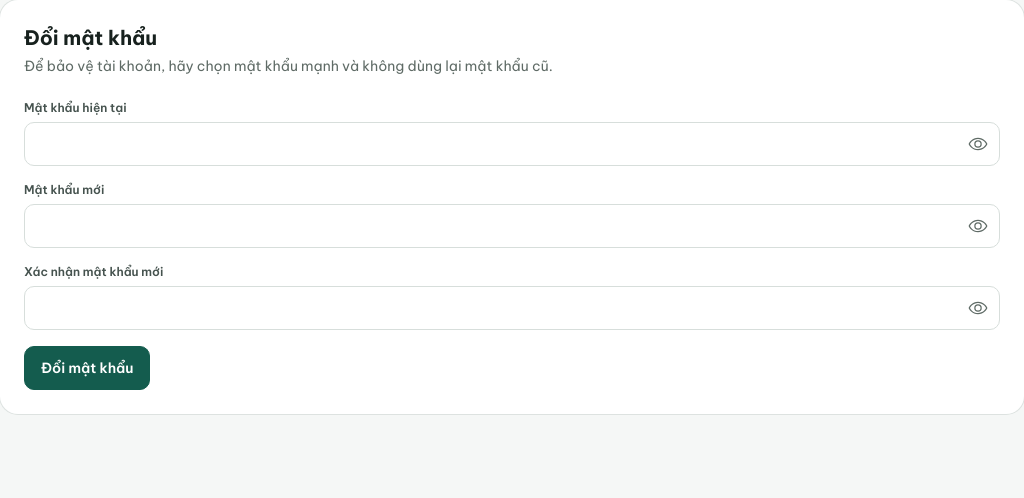
ChangePasswordForm › gọi API đổi mật khẩu và báo thành công khi dữ liệu hợp lệ
The image size is (1024, 498).
Type "MatKhauCu@1" into the password field labelled "Mật khẩu hiện tại" at (512, 144), box x1=24 y1=122 x2=1000 y2=166
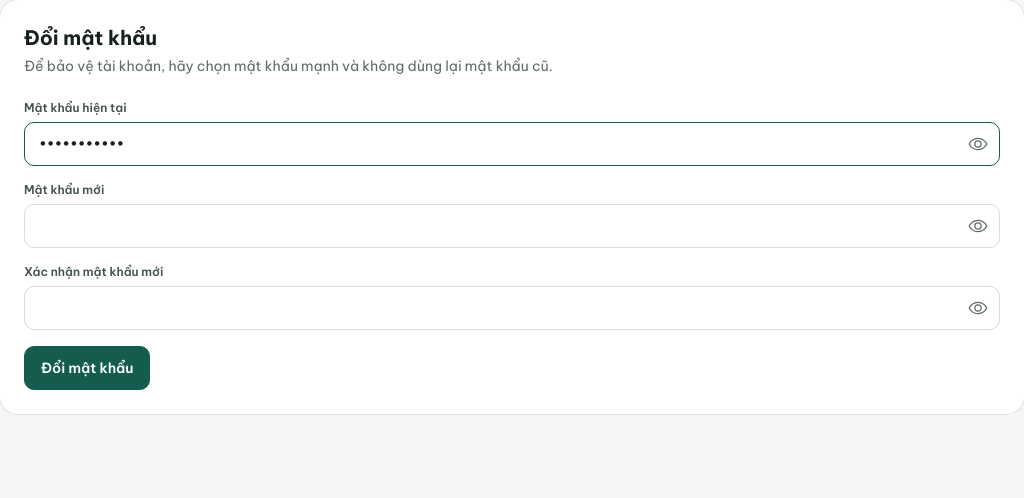
Type "MatKhauMoi@2" into the password field labelled "Mật khẩu mới" at (512, 226), box x1=24 y1=204 x2=1000 y2=248
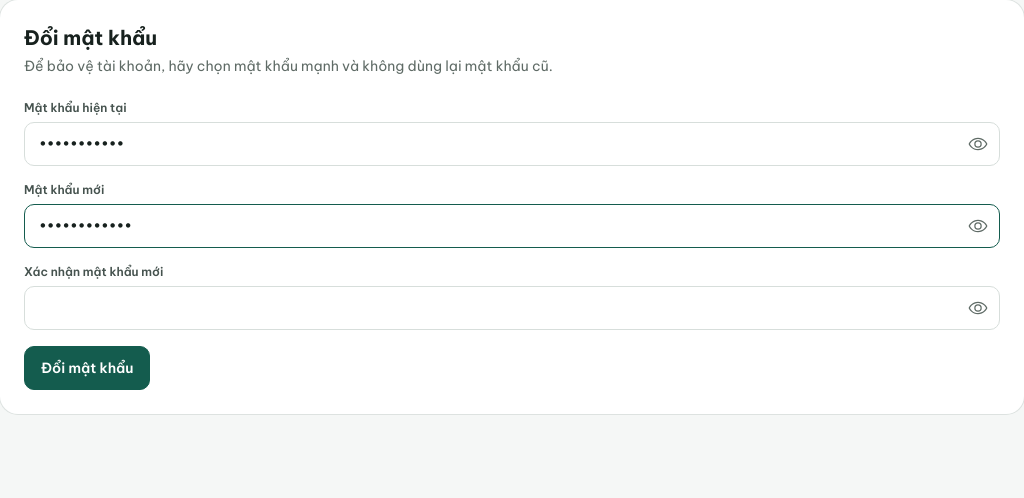
Type "MatKhauMoi@2" into the password field labelled "Xác nhận mật khẩu mới" at (512, 308), box x1=24 y1=286 x2=1000 y2=330
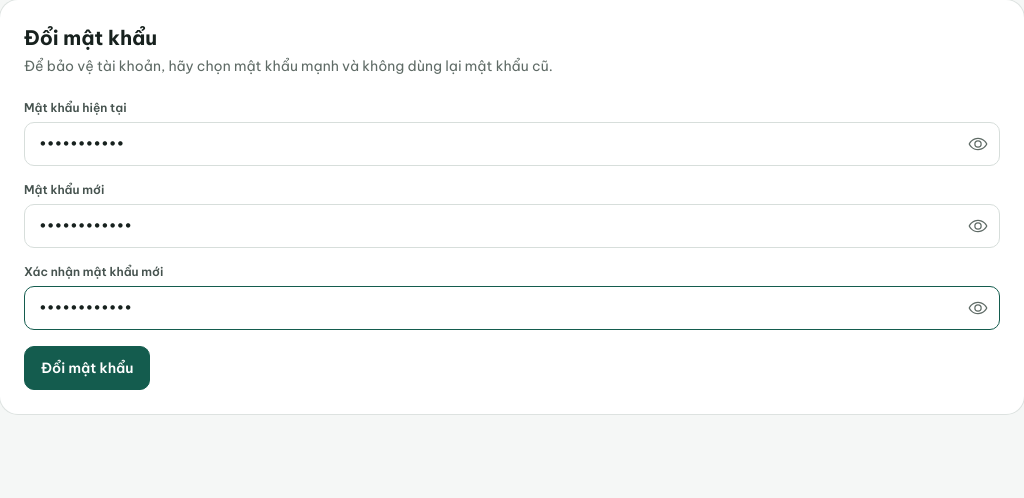
Click the button "Đổi mật khẩu" at (87, 368), box x1=24 y1=346 x2=150 y2=390
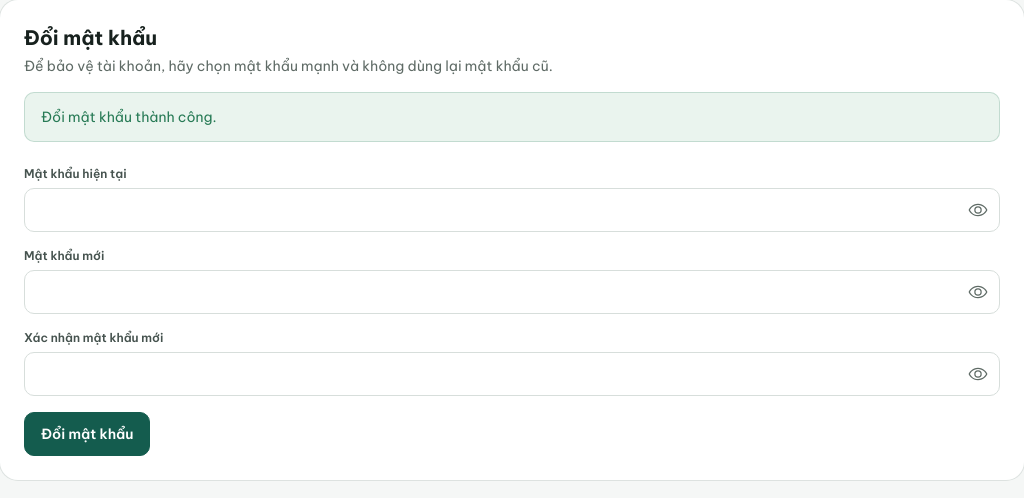
expect the text "Đổi mật khẩu thành công." is shown: met, box x1=24 y1=92 x2=1000 y2=142
